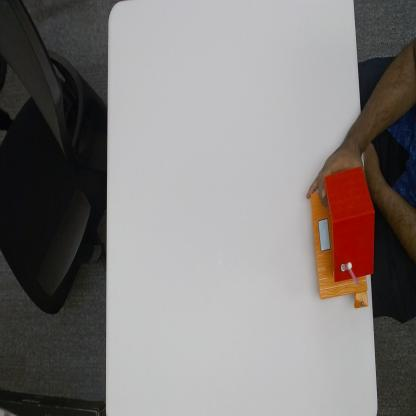Hand: (307, 140, 365, 204)
House: (312, 170, 372, 308)
